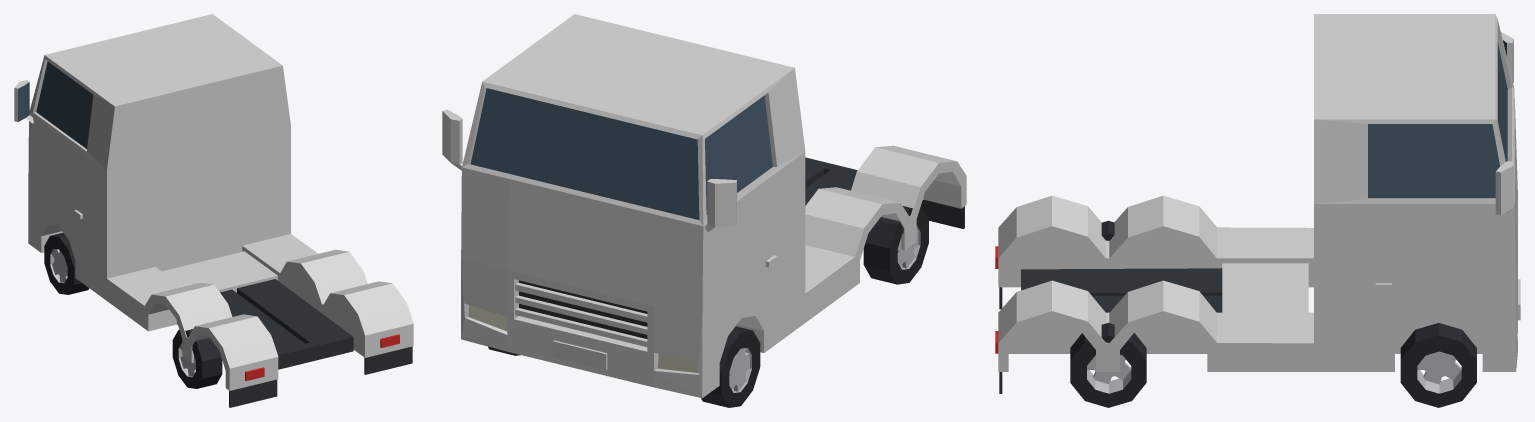
File: truck.glb
The picture shows the model from 3 angles, left to right: view 1: azimuth 30°, elevation 25°; view 2: azimuth 150°, elevation 25°; view 3: azimuth 270°, elevation 25°; orthographic projection. The views are drawn at different scales.
Parts seen in each view (by area): view 1: Body, Wheel_RL, Wheel_FL; view 2: Body, Wheel_RL, Wheel_FL; view 3: Body, Wheel_FR, Wheel_RR.
Part boxes in pixels (x1,y1,x2,y2): Body: (14, 14, 413, 407); Wheel_RL: (172, 329, 222, 388); Wheel_FL: (44, 233, 89, 294); Body: (442, 14, 966, 398); Wheel_RL: (863, 206, 928, 284); Wheel_FL: (701, 326, 760, 407); Body: (995, 14, 1520, 393); Wheel_FR: (1400, 323, 1476, 407); Wheel_RR: (1070, 323, 1146, 407).
Size of the model in its own units: 3.41 by 3.21 by 5.38.
